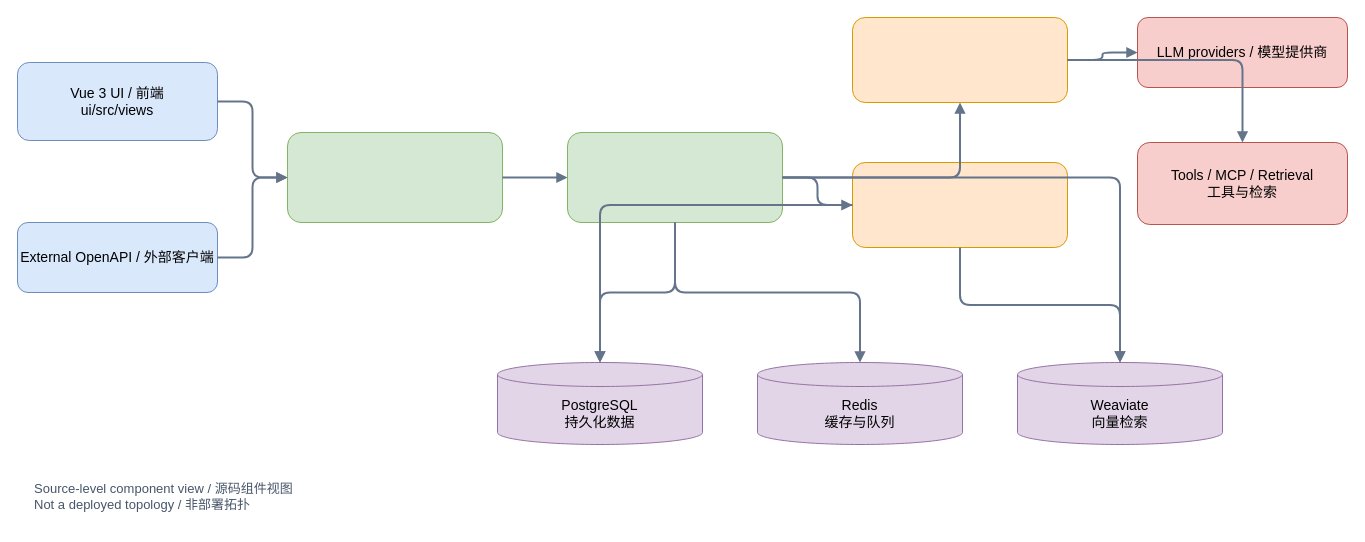
Some shapes in this 1365 by 542 pixel diagram are drawn without their labels. The box of each missing label's shape, as (x1, y1, x2, y2) in pixels:
Agents / LangGraph 智能体与工作流: (852, 16, 1068, 102)
Celery tasks / 异步任务 api/internal/task: (852, 162, 1068, 248)
Flask HTTP API api/app/http + router: (286, 132, 502, 222)
Handlers / Services 业务服务层: (566, 132, 782, 222)
